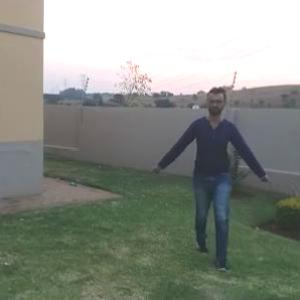land: (158, 80, 282, 273)
